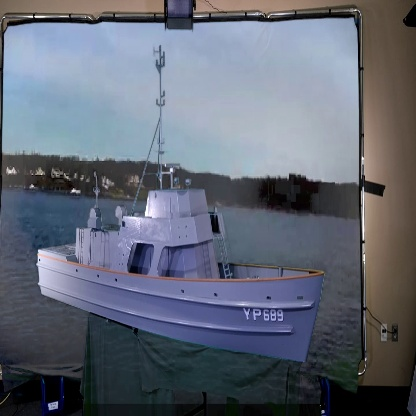YP689: (34, 40, 325, 365)
